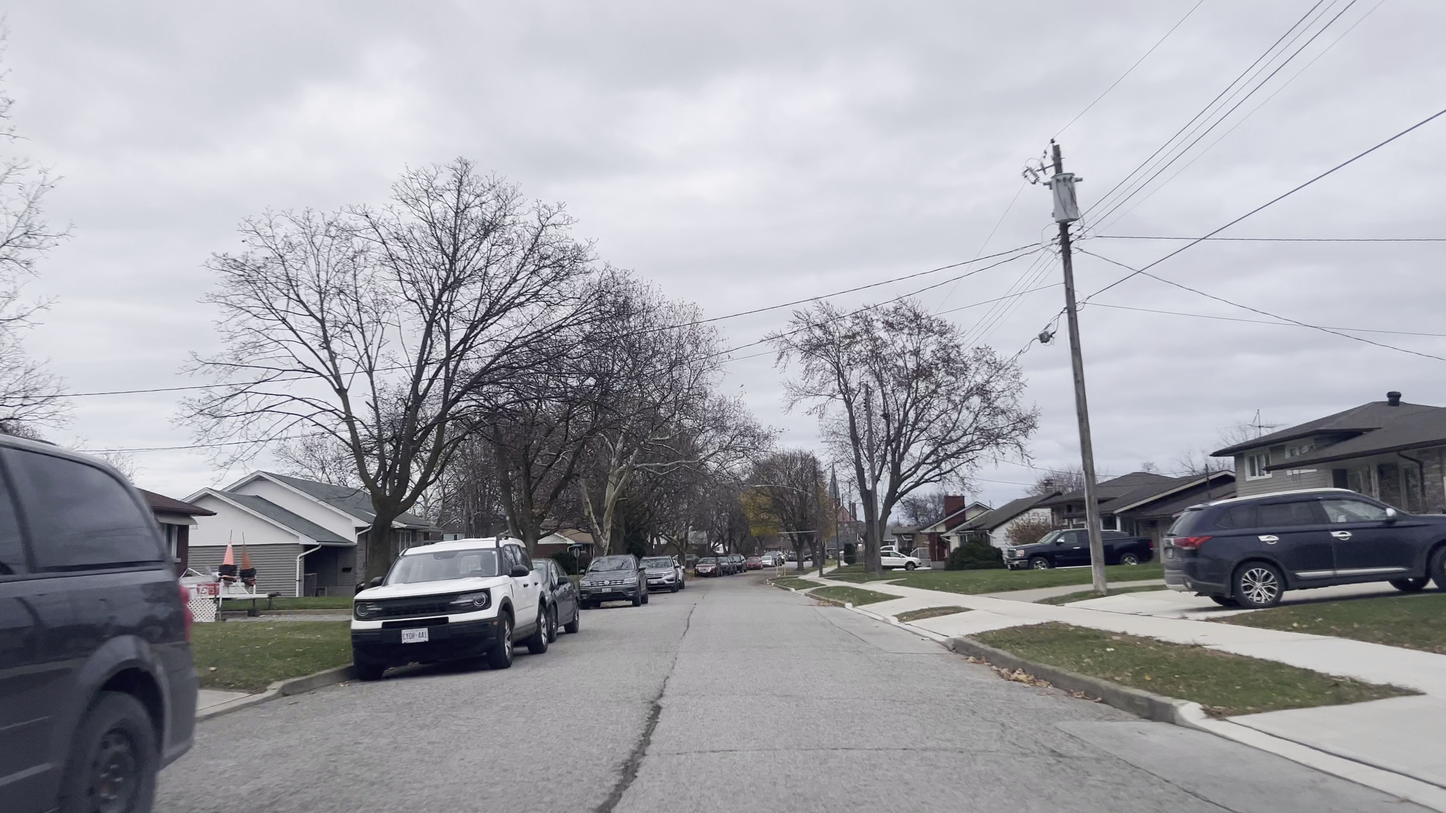cracks: (584, 696, 636, 813), (643, 696, 665, 751)
